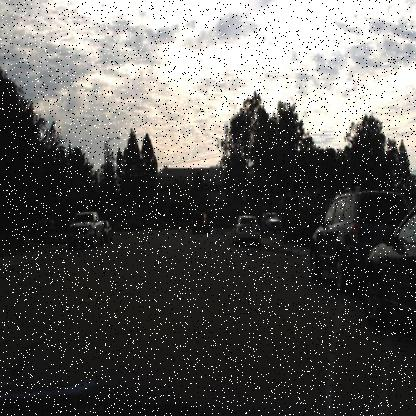car: (306, 184, 412, 286), (359, 198, 415, 334), (66, 209, 108, 250), (230, 211, 262, 246), (234, 214, 258, 247), (260, 207, 284, 236), (189, 207, 212, 237), (116, 214, 143, 235)
